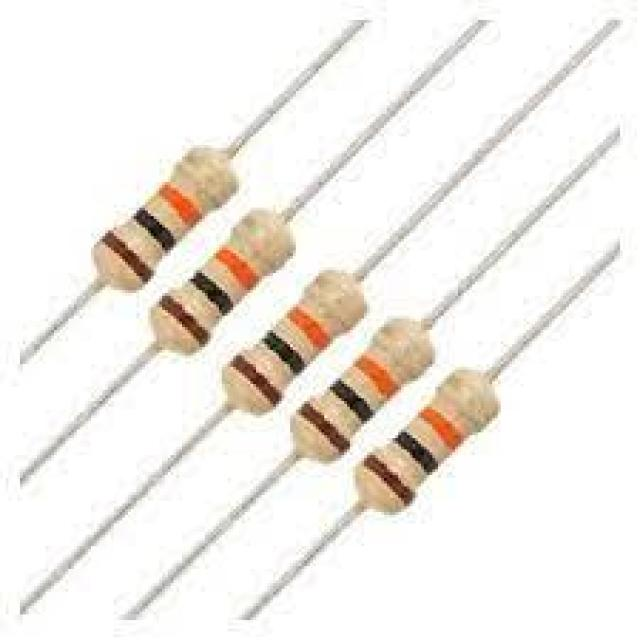Resistor: (24, 42, 589, 613), (24, 21, 484, 483), (124, 180, 568, 618), (244, 301, 562, 618), (26, 100, 278, 361)
